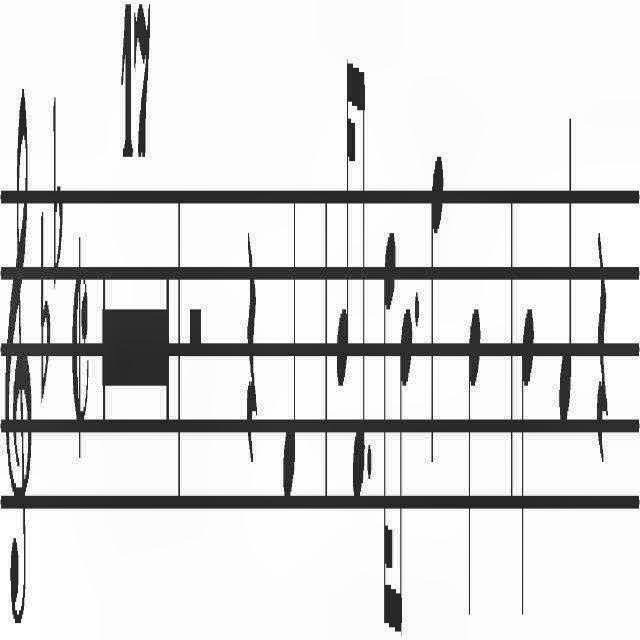Bass-clef: (4, 80, 32, 640)
Bemol: (40, 204, 52, 416), (52, 92, 64, 302)
Eighth-note: (351, 64, 365, 514), (395, 292, 413, 640)
Quarter-note: (558, 101, 574, 438), (282, 184, 298, 516), (520, 306, 536, 634), (466, 304, 482, 624), (428, 150, 444, 466)
Quarter-rest: (245, 222, 259, 474), (594, 221, 608, 471)
Sixteenth-note: (333, 58, 355, 386), (380, 222, 396, 630)
